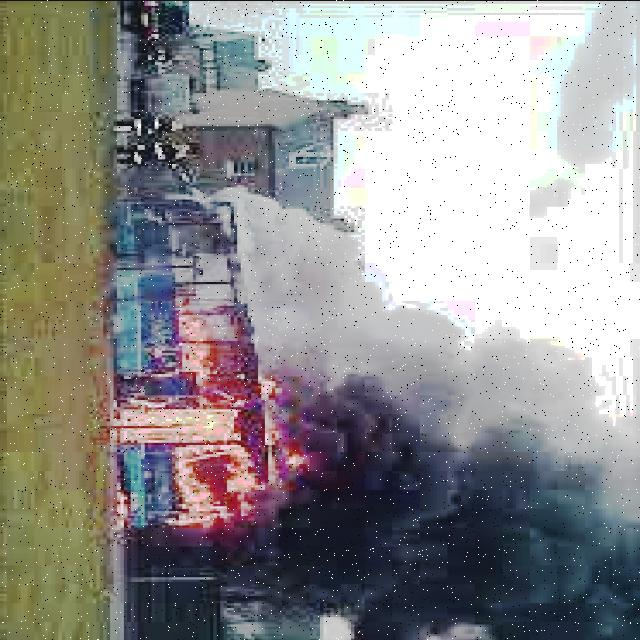api: (104, 388, 318, 537), (159, 294, 273, 379)
